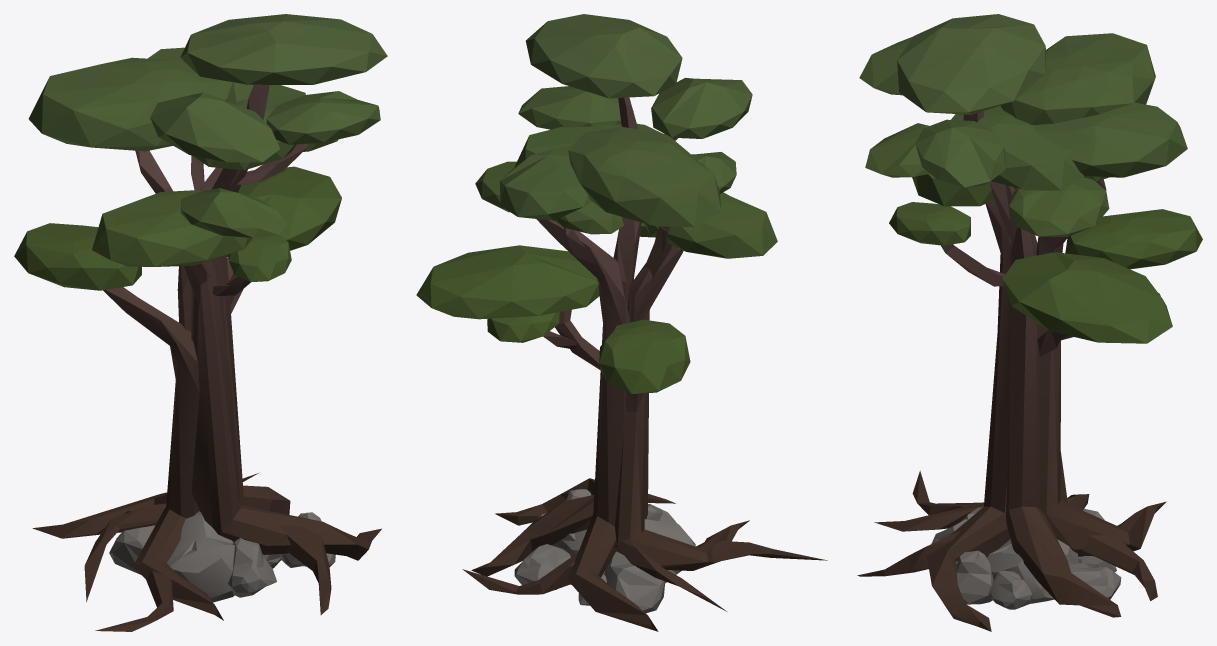
Rendered from Tree04.FBX.
3 renders of one model, left to right at view 1: azimuth 30°, elevation 25°; view 2: azimuth 150°, elevation 25°; view 3: azimuth 270°, elevation 25°, orthographic. The views are drawn at different scales.
Parts seen in each view (by area): view 1: Tree_03; view 2: Tree_03; view 3: Tree_03.
Part boxes in pixels (<box>): Tree_03: <box>14,14,387,631</box>; Tree_03: <box>416,14,827,631</box>; Tree_03: <box>857,14,1202,631</box>.
Size of the model in its own units: 1868 by 3033 by 1665.
